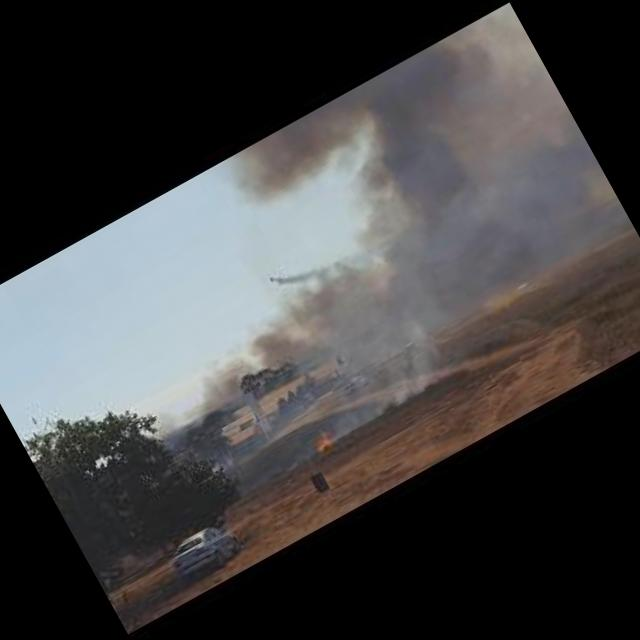fire: (312, 424, 336, 450)
smoke: (94, 1, 634, 459)
